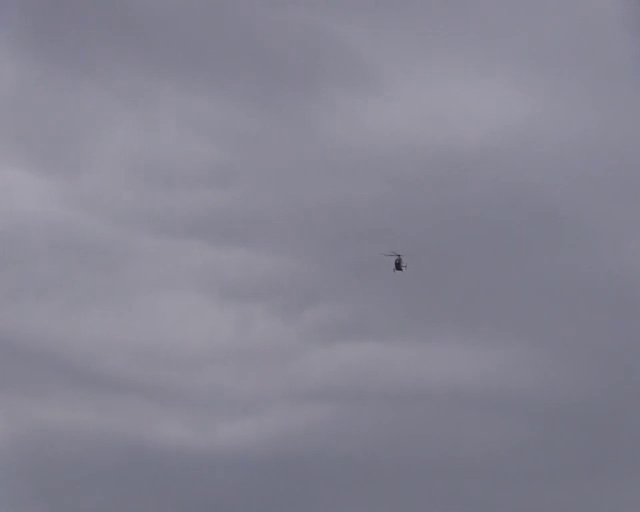HELICOPTER: (380, 251, 408, 272)
